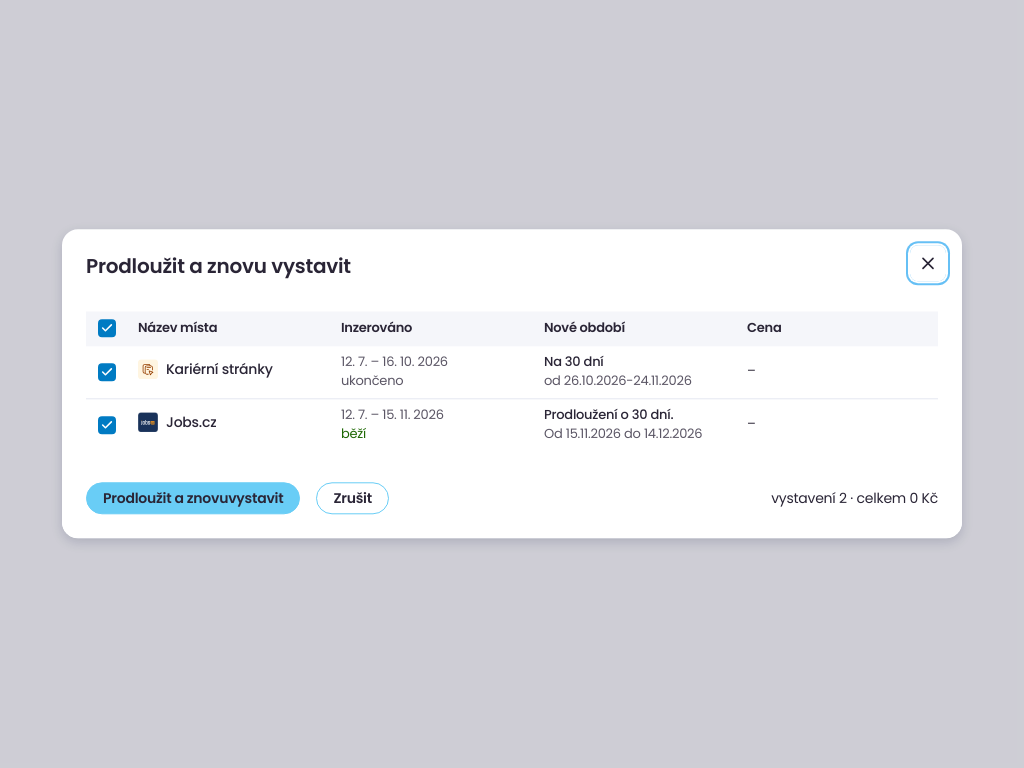
Test case: JobModalActionPlaces › changes the Prolong confirm label with the selected mix of places
Expected: the button "Prodloužit a znovuvystavit" is shown, [86,483,300,515]
Click the checkbox named "Kariérní stránky": click(107, 372) [98,363,116,381]
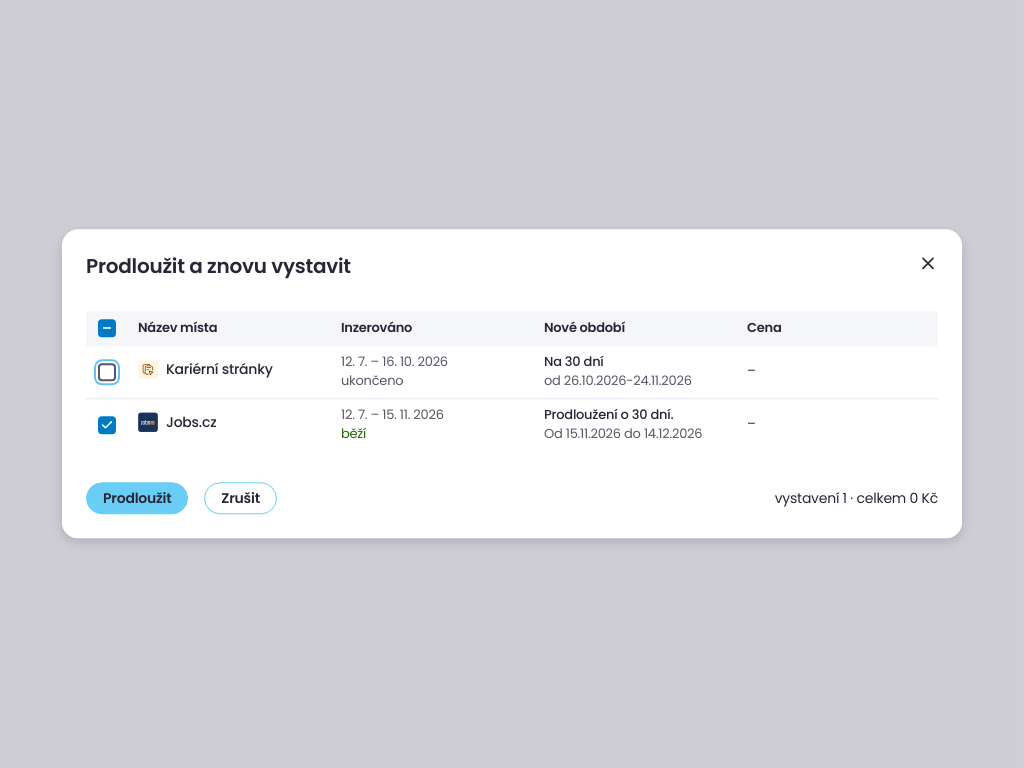
Expected: the button "Prodloužit" is shown, [86,483,188,515]
Click the checkbox named "Jobs.cz": click(107, 425) [98,416,116,434]
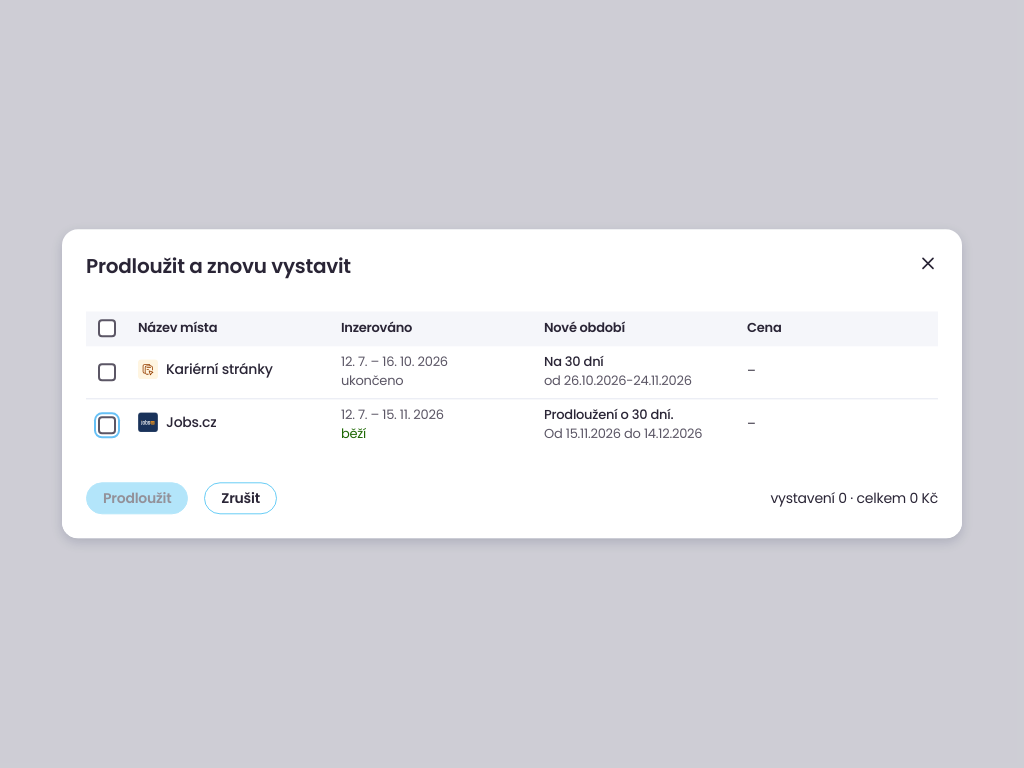
Click the checkbox named "Kariérní stránky": click(107, 372) [98,363,116,381]
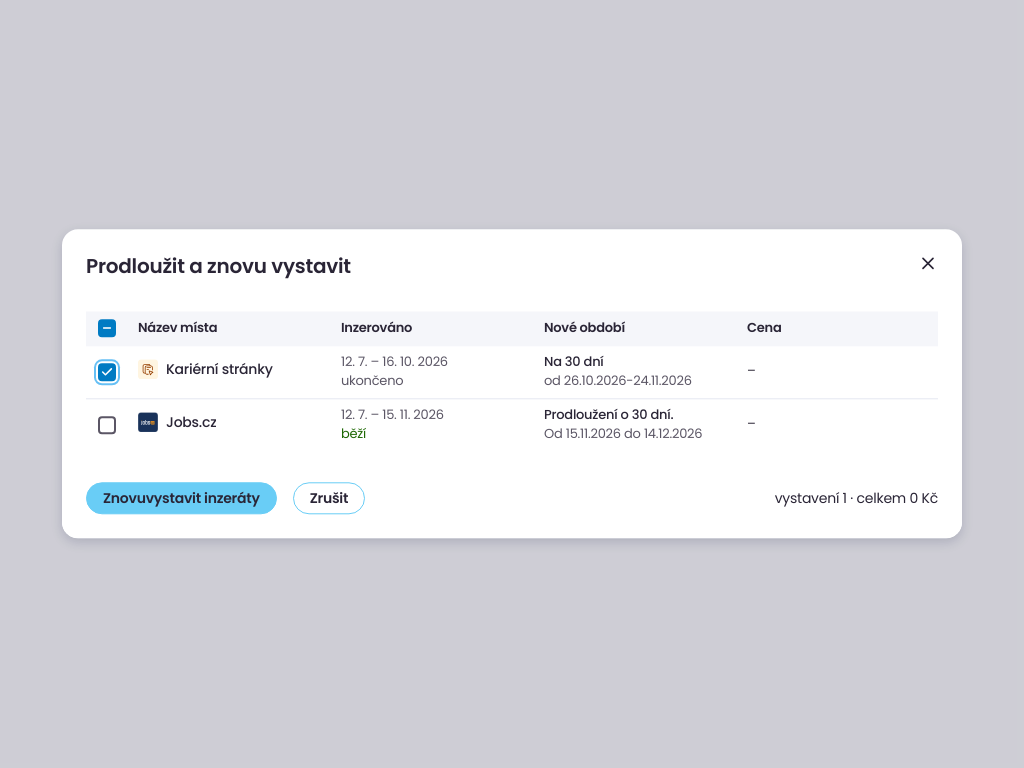
Result: the button "Znovuvystavit inzeráty" is shown at [86,483,277,515]
